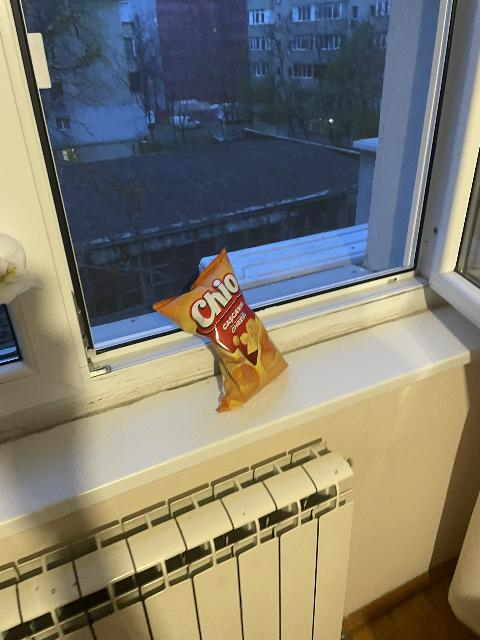Chio Cascaval 125g: (147, 250, 290, 415)
